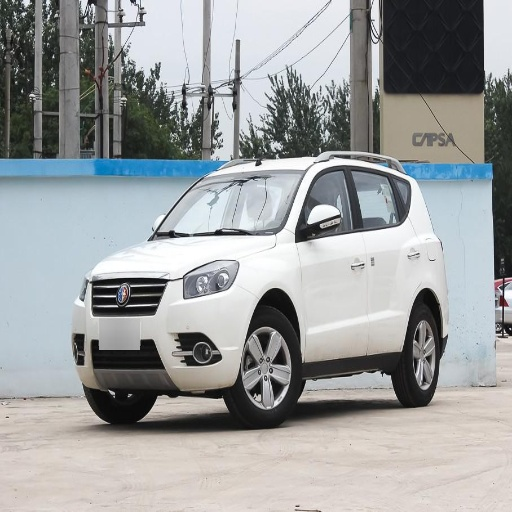front_bumper: (68, 272, 257, 395)
front_glass: (152, 171, 302, 238)
front_left_door: (295, 164, 368, 360)
